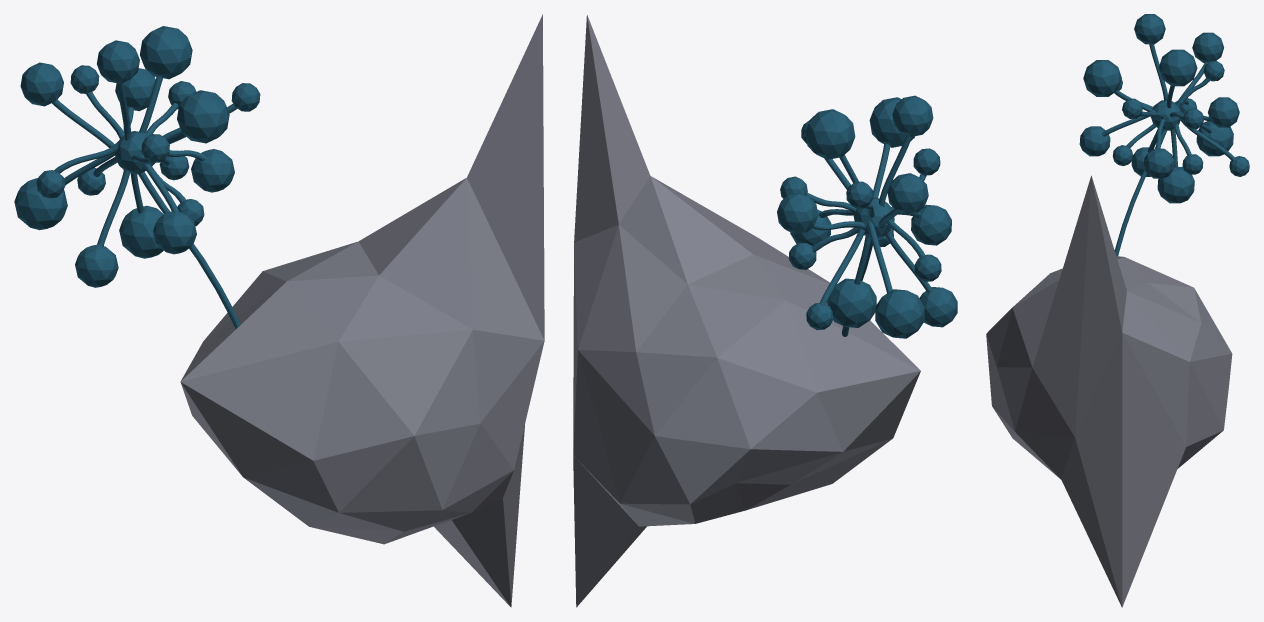
Rendered from epongelampadaire.glb.
The picture shows the model from 3 angles, left to right: view 1: azimuth 30°, elevation 25°; view 2: azimuth 150°, elevation 25°; view 3: azimuth 270°, elevation 25°; orthographic projection. The views are drawn at different scales.
Visible parts, largest first — view 1: Icosphere.019; view 2: Icosphere.019; view 3: Icosphere.019.
Part boxes in pixels (bbox=[...]): Icosphere.019: bbox=[14, 14, 544, 607]; Icosphere.019: bbox=[573, 15, 957, 607]; Icosphere.019: bbox=[986, 14, 1249, 607].
Bounding box in the file's own units: 2.95 × 4.12 × 2.13.
